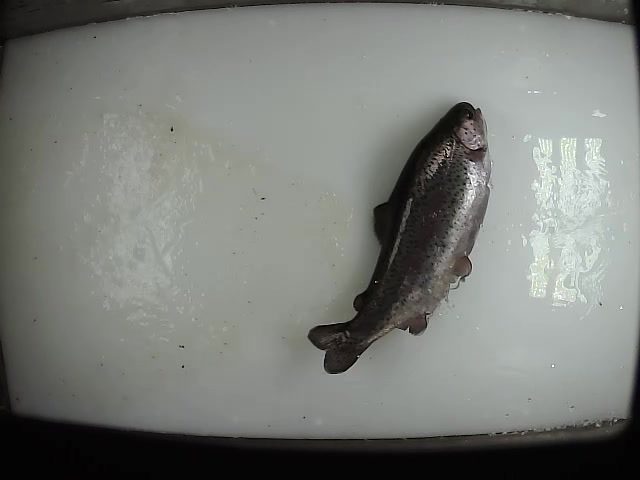fish: (303, 100, 496, 378)
